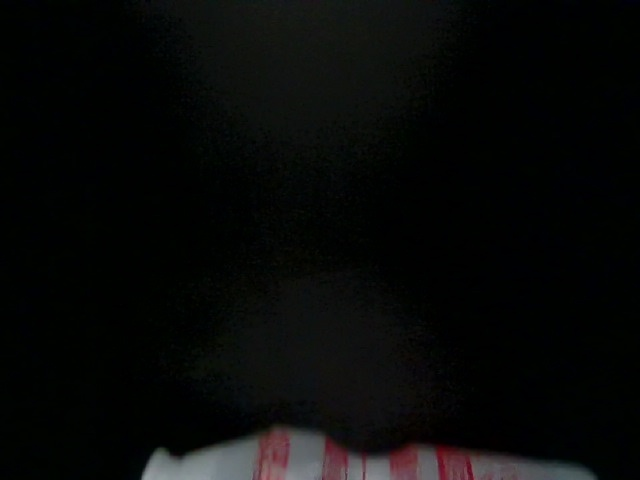CYLJ: (333, 175, 447, 274)
